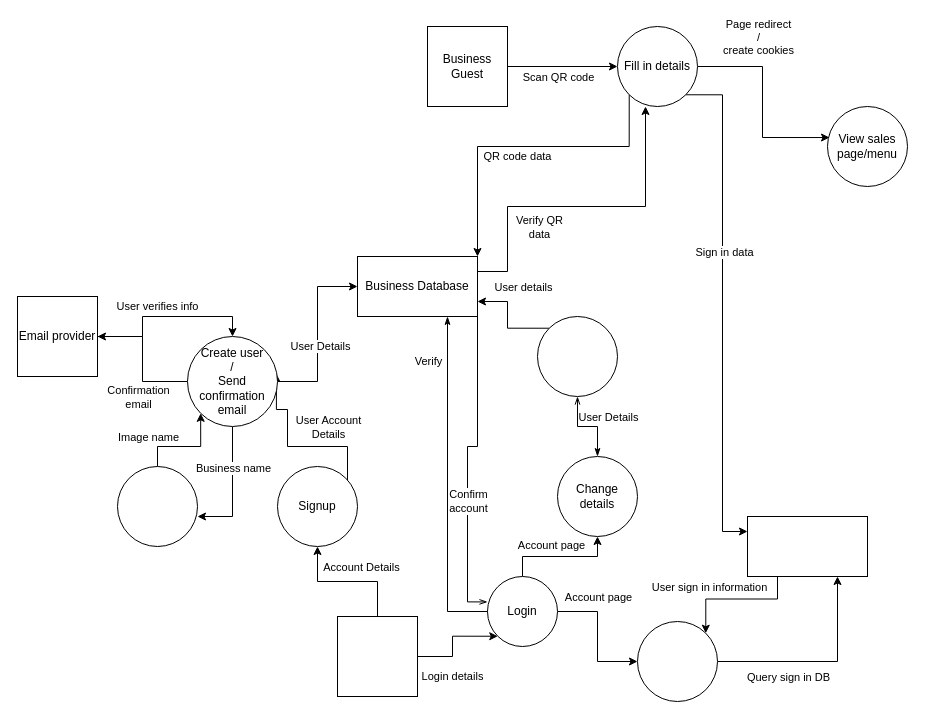
The diagram is 925 pixels wide and 719 high, and some of its shapes have lost their labels. The centre of each missing label's shape, as x and y in pixels:
"Business Owner" goes at pixel 377 656.
"Download CSV" goes at pixel 677 661.
"Generate QR code" goes at pixel 157 506.
"Sign in Database" goes at pixel 807 546.
"Verify details & Generate new QR" goes at pixel 577 356.
